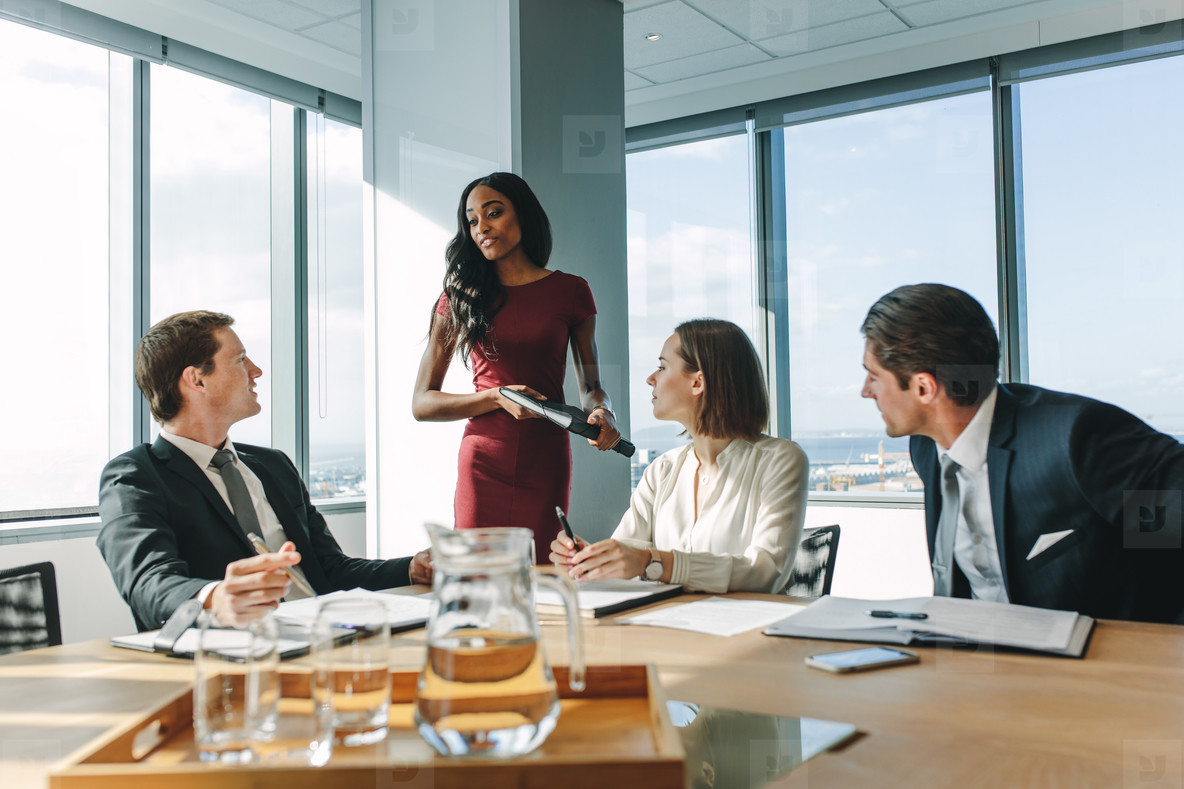Person: (70, 307, 466, 644), (851, 273, 1184, 640), (401, 163, 649, 594), (541, 309, 833, 602)
